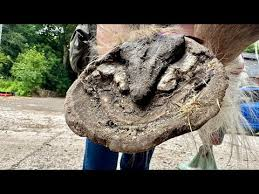horsesole: (63, 34, 230, 152)
